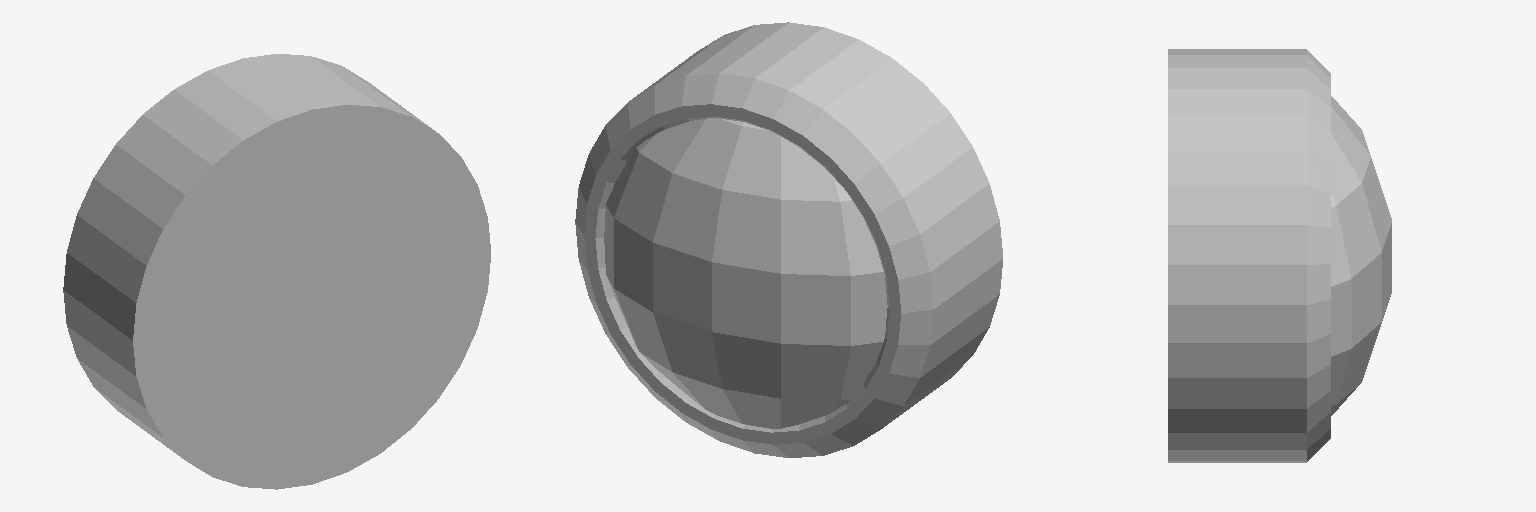
The model's file is SwitchLight.obj.
3 views of the same model, side by side, from view 1: azimuth 30°, elevation 25°; view 2: azimuth 150°, elevation 25°; view 3: azimuth 270°, elevation 25° (orthographic).
Visible parts, largest first — view 1: Sphere; view 2: Sphere; view 3: Sphere.
Boxes of the visible parts, box(x1,y1,x2,y2) form: Sphere: box(63, 54, 490, 489); Sphere: box(575, 22, 1002, 457); Sphere: box(1168, 49, 1391, 462).
Bounding box in the file's own units: 0.0266 × 0.0266 × 0.0144.